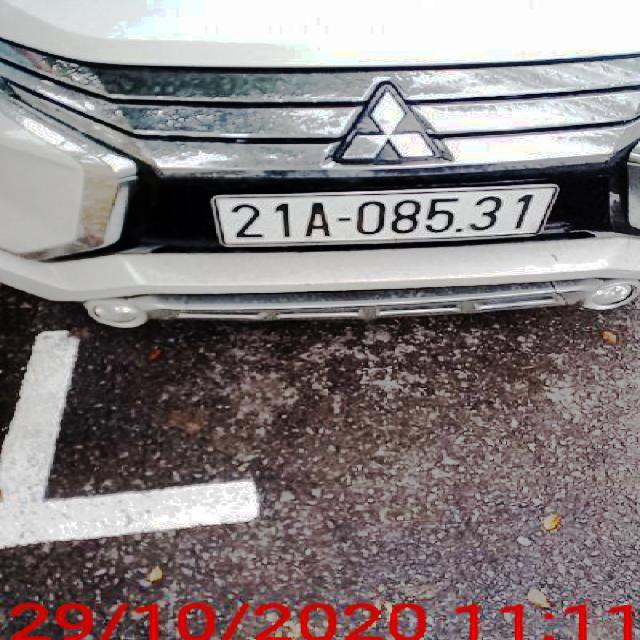license_plate: (221, 186, 558, 247)
